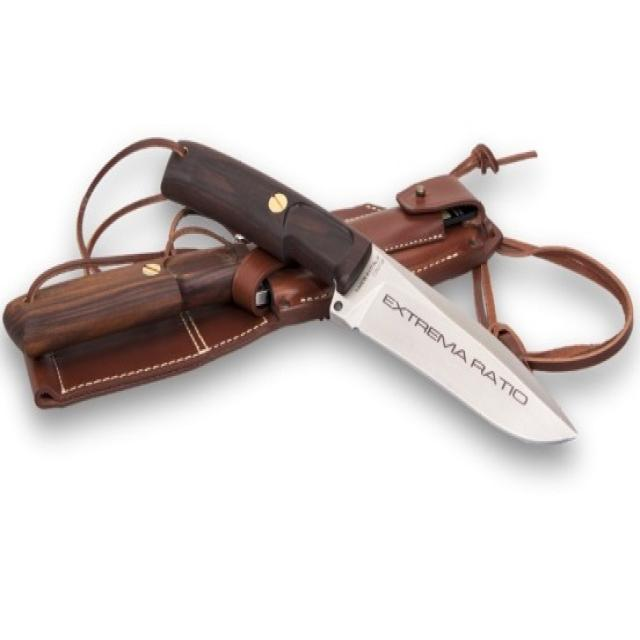knife: (159, 133, 582, 466)
